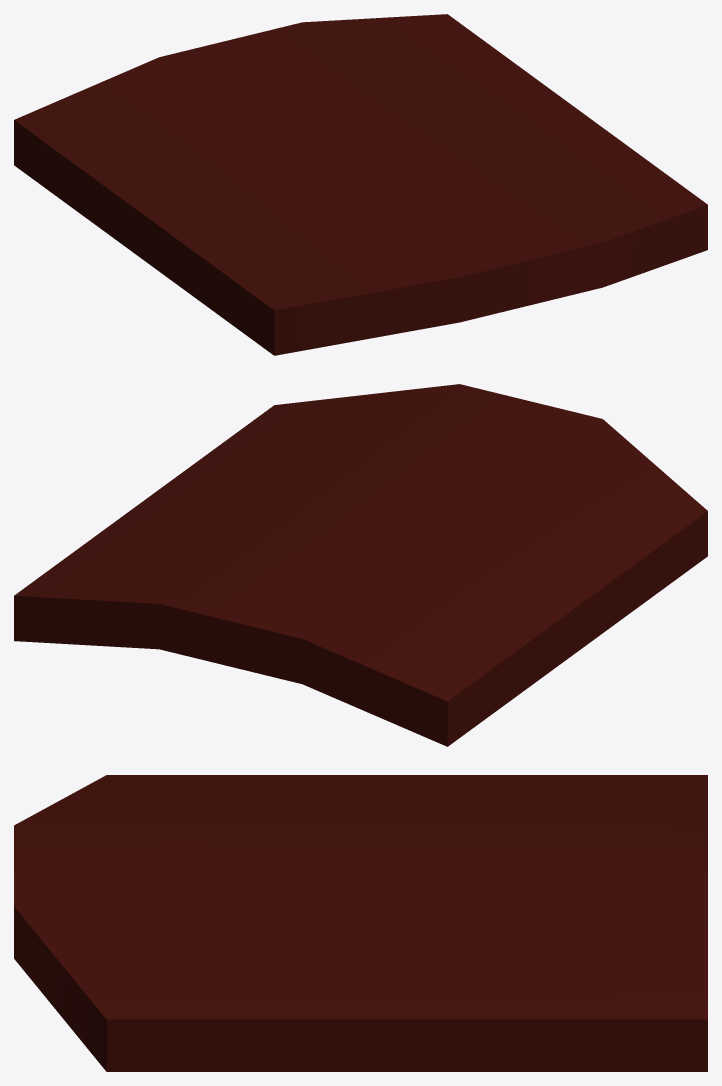
The model's file is RoofTile.FBX.
The picture shows the model from 3 angles, top to bottom: view 1: azimuth 30°, elevation 25°; view 2: azimuth 150°, elevation 25°; view 3: azimuth 270°, elevation 25°; orthographic projection. The views are drawn at different scales.
Visible parts, largest first — view 1: RoofTile; view 2: RoofTile; view 3: RoofTile.
Boxes of the visible parts, x1,y1,x2,y2 form: RoofTile: [14, 14, 707, 355]; RoofTile: [14, 384, 707, 746]; RoofTile: [14, 775, 707, 1071].
Bounding box in the file's own units: 50 × 8 × 60.
